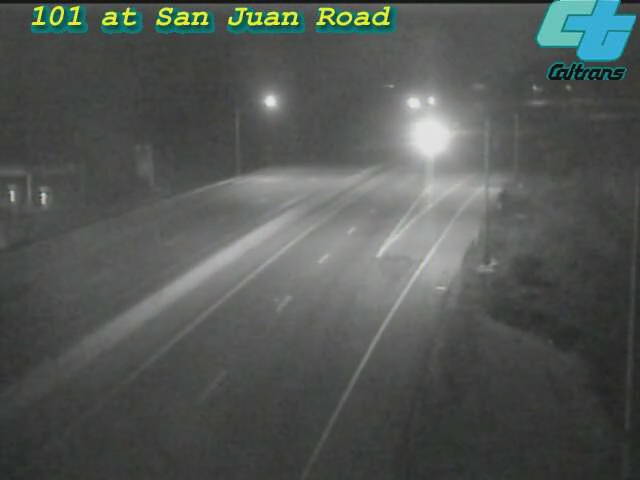vehicle: (402, 111, 452, 161)
